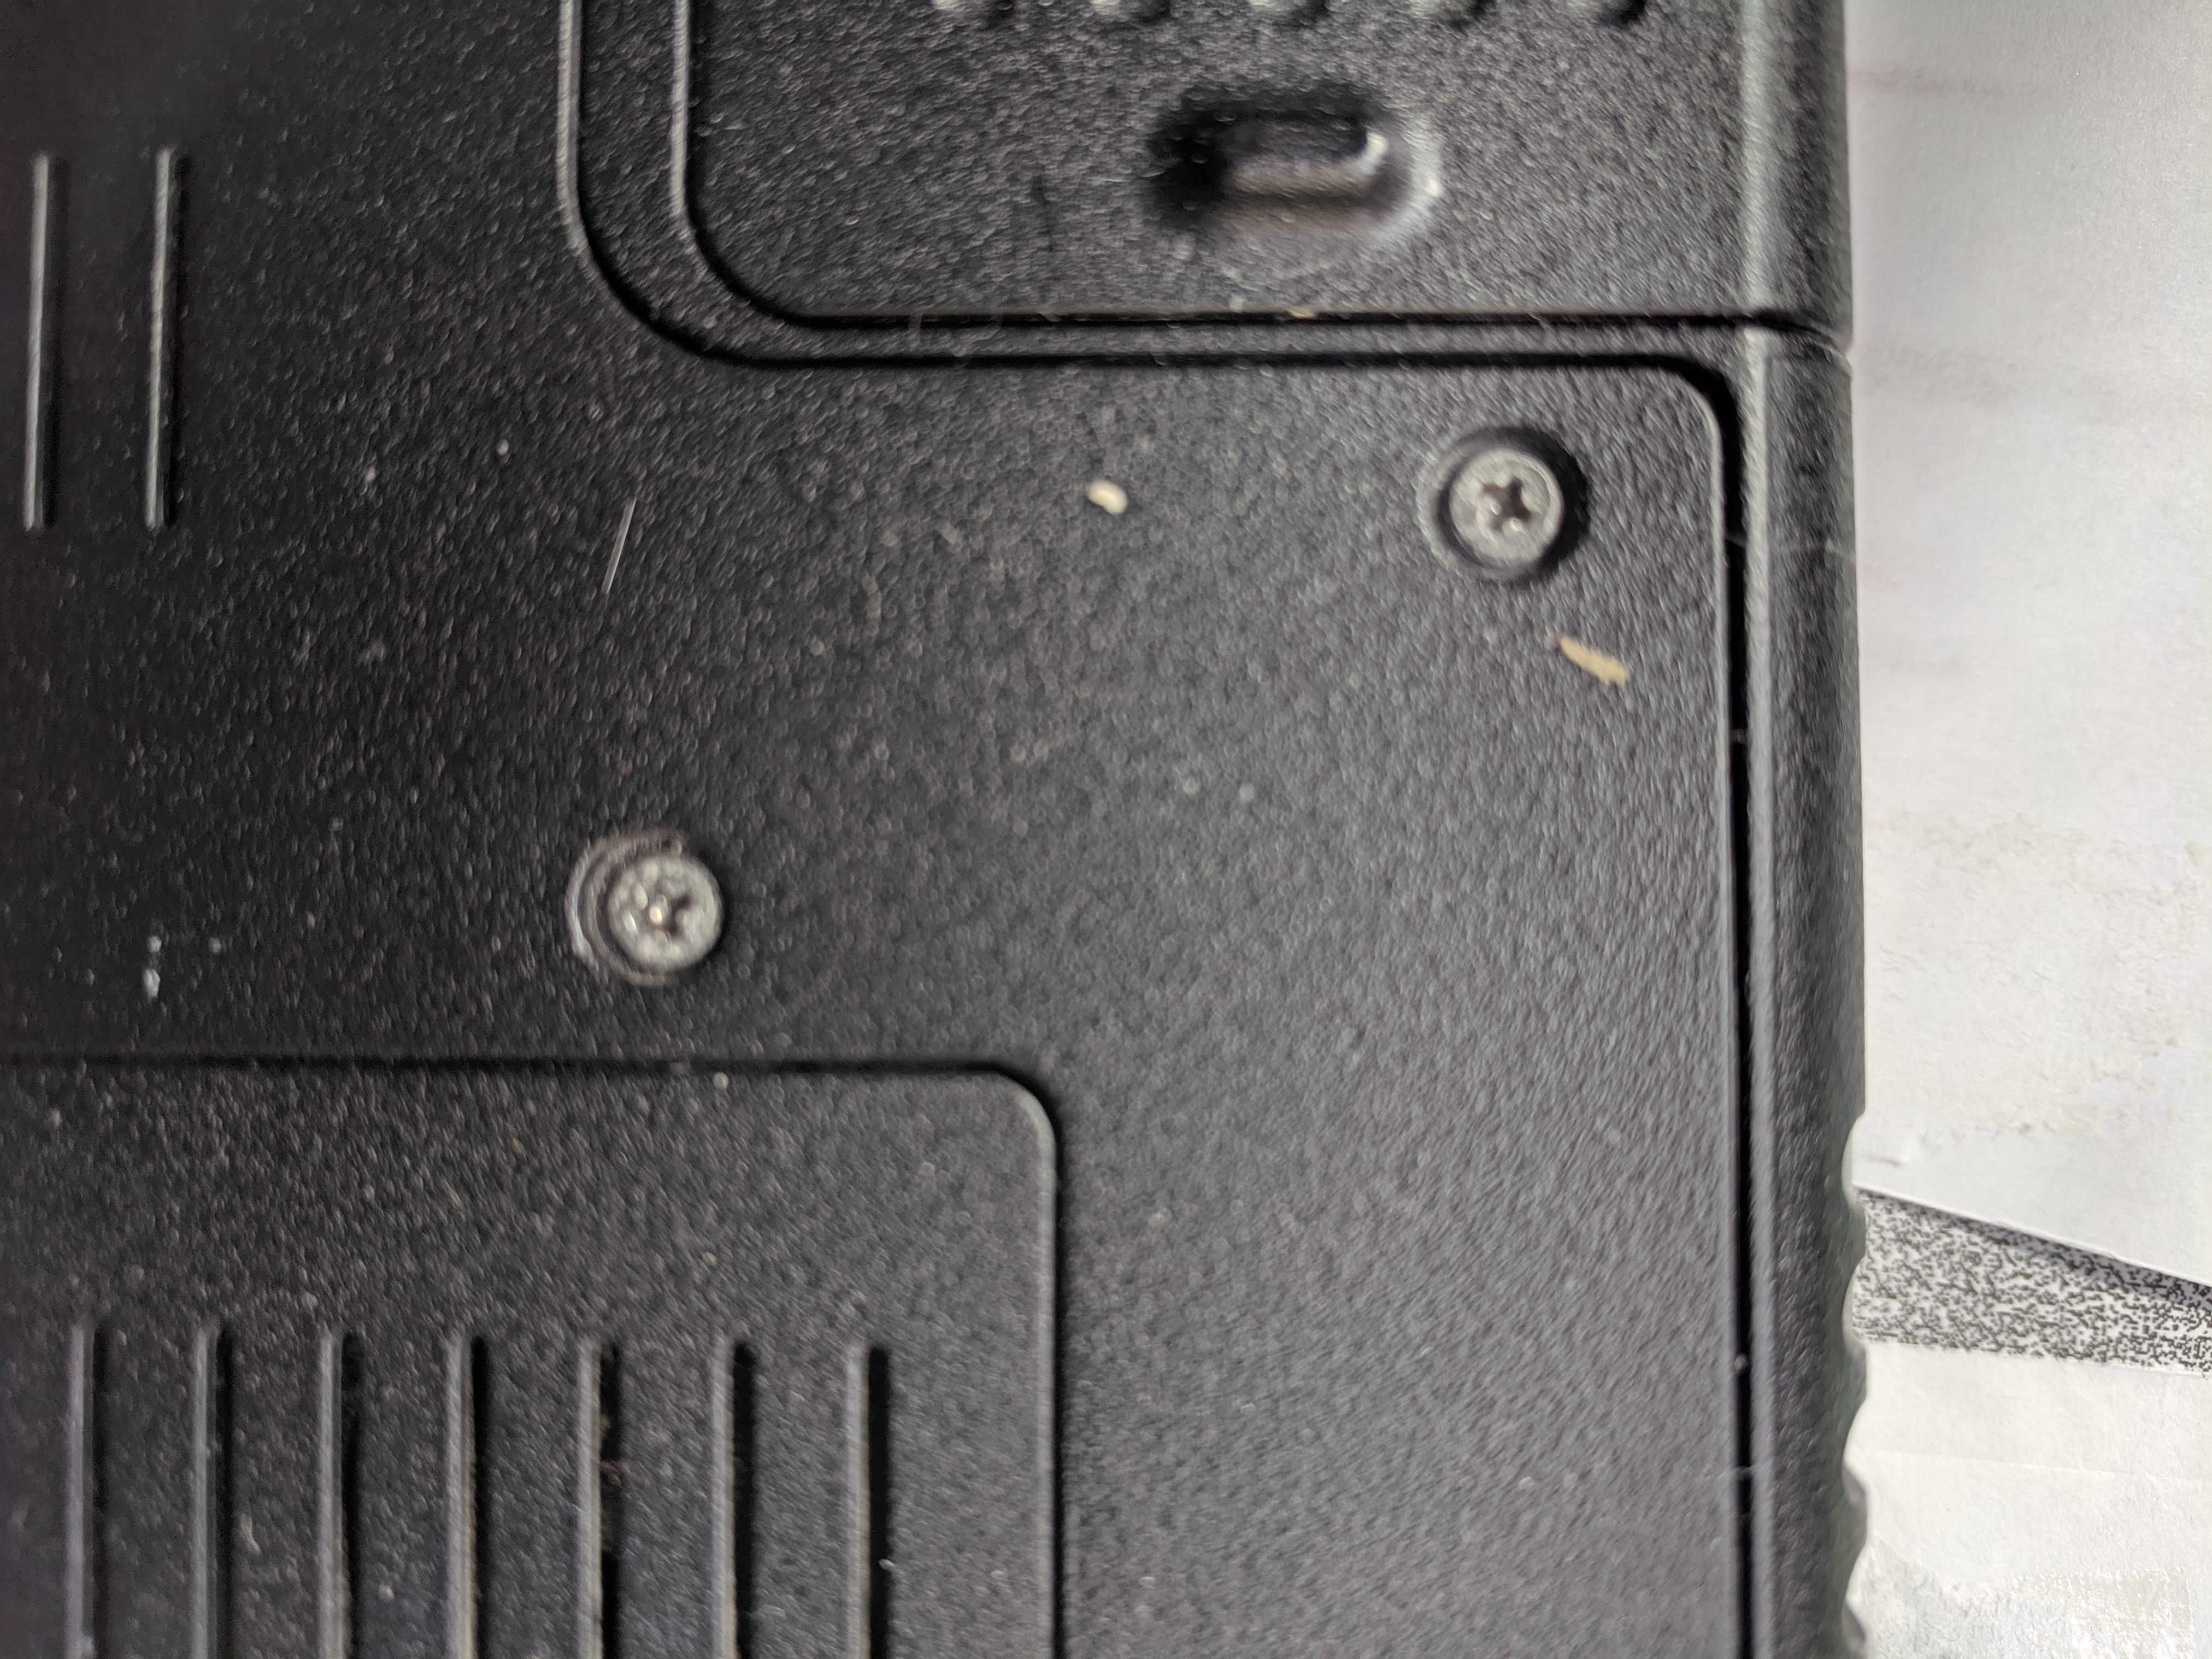cross_recessed_screw: (1423, 413, 1592, 591), (564, 810, 732, 990)
